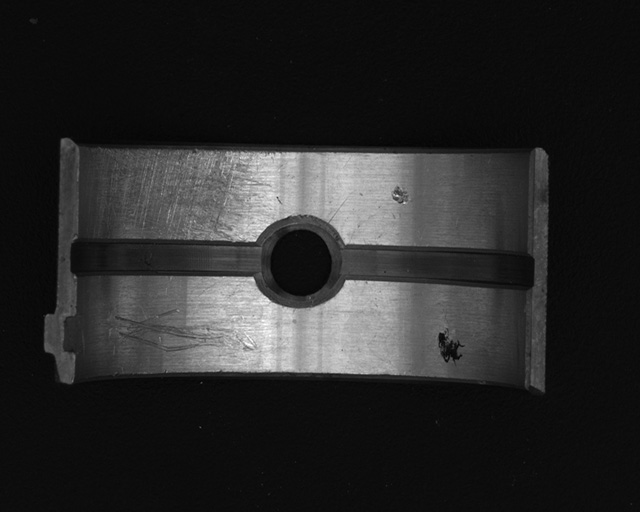blot: (437, 328, 466, 366)
bruise: (390, 184, 411, 205)
gap: (334, 245, 537, 287), (69, 237, 266, 280)
hole: (255, 220, 345, 308)
nick: (114, 308, 257, 355), (327, 190, 356, 224)
scratch: (87, 146, 285, 243)
